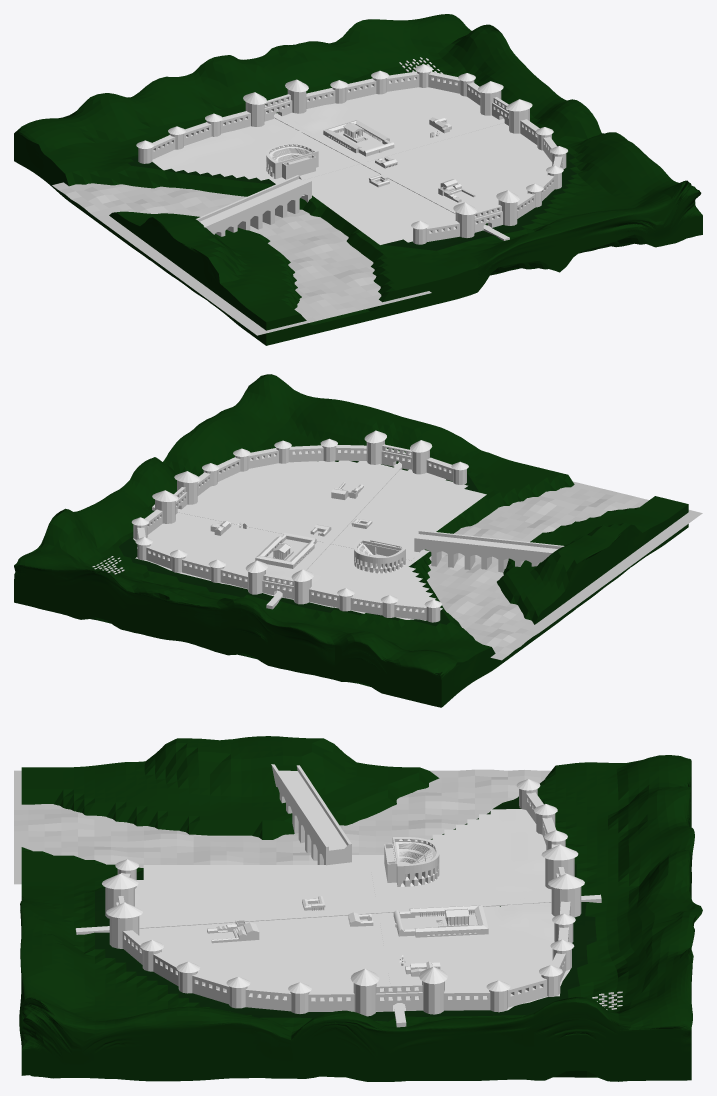
File: TolosaV1.fbx
3 views of the same model, one above another, from view 1: azimuth 30°, elevation 25°; view 2: azimuth 150°, elevation 25°; view 3: azimuth 270°, elevation 25° (orthographic). The views are drawn at different scales.
Parts seen in each view (by area): view 1: Terrain, Ville, Eau, Mur005, Box002, TourPorte, Routes, Tour005, MurPorte, ToitTour005, ToitPorte, Box001; view 2: Terrain, Ville, Eau, Mur005, Box002, TourPorte, Tour005, Routes, MurPorte, Box001, ToitTour005, ToitPorte; view 3: Terrain, Ville, Eau, Mur005, Box002, Routes, TourPorte, Tour005, ToitTour005, ToitPorte, Box001, MurPorte (+2 smaller).
Part boxes in pixels (bbox=[...]): Terrain: bbox=[14, 14, 702, 345]; Ville: bbox=[152, 87, 552, 244]; Eau: bbox=[52, 182, 431, 335]; Mur005: bbox=[152, 71, 562, 241]; Box002: bbox=[196, 175, 311, 236]; TourPorte: bbox=[245, 89, 529, 237]; Routes: bbox=[274, 113, 509, 240]; Tour005: bbox=[138, 71, 566, 244]; MurPorte: bbox=[264, 94, 508, 232]; ToitTour005: bbox=[136, 64, 567, 229]; ToitPorte: bbox=[243, 79, 532, 214]; Box001: bbox=[266, 143, 318, 179]; Terrain: bbox=[14, 374, 688, 707]; Ville: bbox=[133, 460, 486, 620]; Eau: bbox=[427, 481, 702, 660]; Mur005: bbox=[137, 445, 452, 620]; Box002: bbox=[414, 530, 564, 572]; TourPorte: bbox=[155, 440, 429, 604]; Tour005: bbox=[133, 446, 466, 622]; Routes: bbox=[152, 452, 414, 609]; MurPorte: bbox=[174, 444, 411, 599]; Box001: bbox=[354, 539, 405, 573]; ToitTour005: bbox=[131, 438, 468, 607]; ToitPorte: bbox=[152, 430, 432, 581]; Terrain: bbox=[19, 736, 702, 1081]; Ville: bbox=[135, 809, 570, 1011]; Eau: bbox=[14, 769, 550, 884]; Mur005: bbox=[121, 792, 570, 1011]; Box002: bbox=[271, 764, 351, 865]; Routes: bbox=[75, 857, 601, 1027]; TourPorte: bbox=[105, 858, 581, 1016]; Tour005: bbox=[117, 789, 573, 1013]; ToitTour005: bbox=[115, 779, 575, 993]; ToitPorte: bbox=[102, 845, 584, 986]; Box001: bbox=[384, 837, 439, 886]; MurPorte: bbox=[116, 867, 565, 1011].
Bounding box in the file's own units: 216 × 34.18 × 216.
